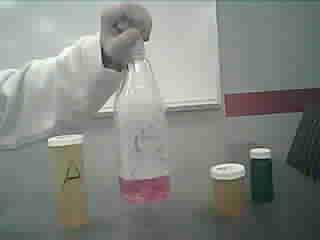Bottle A: (44, 132, 98, 232)
Bottle B: (204, 158, 246, 215)
Bottle C: (248, 142, 279, 206)
hazard: (111, 19, 186, 210)
